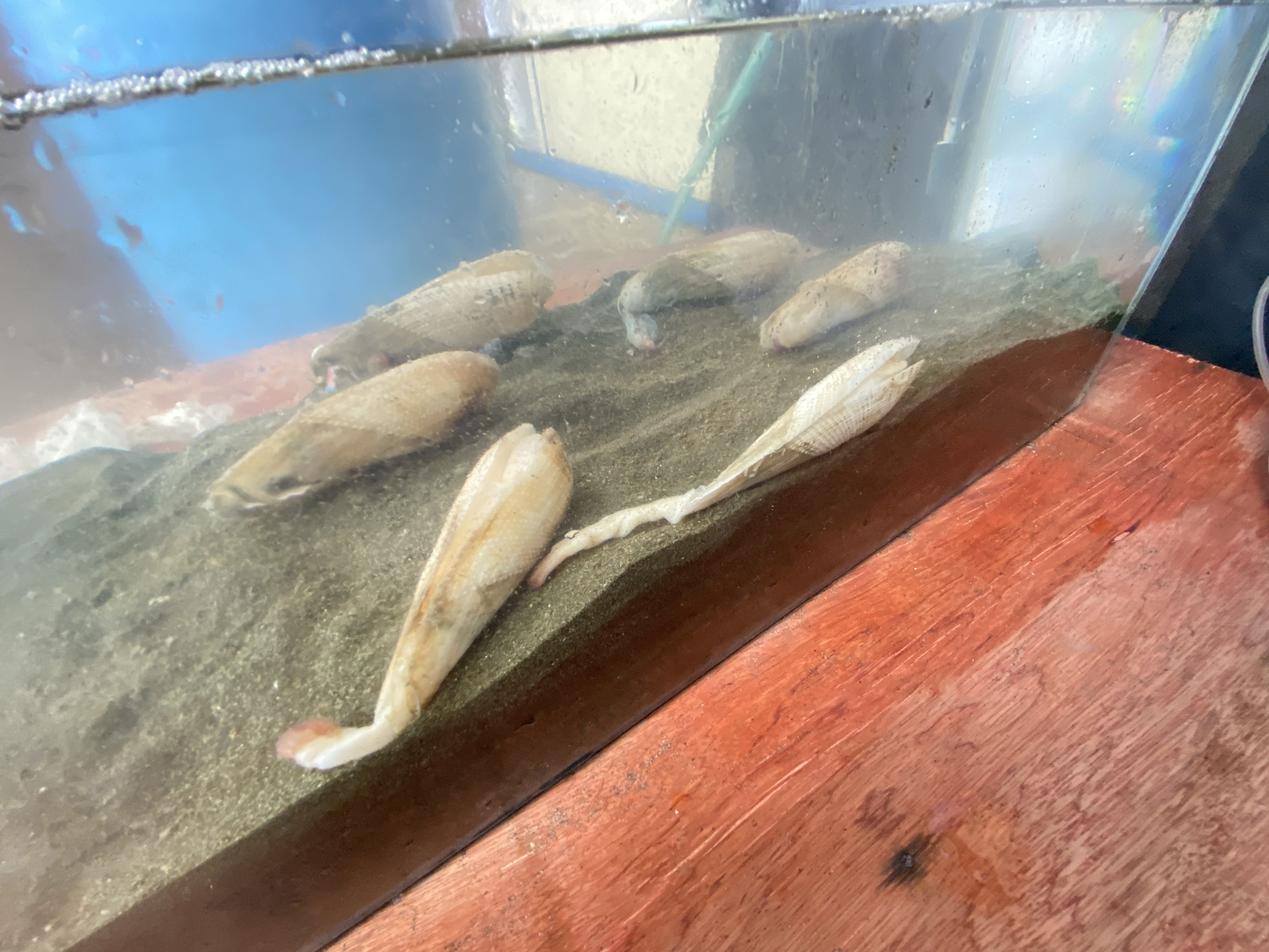At risk: (277, 423, 572, 768), (528, 338, 923, 588), (207, 351, 499, 513), (311, 251, 553, 379), (618, 230, 803, 350), (760, 241, 910, 350)
